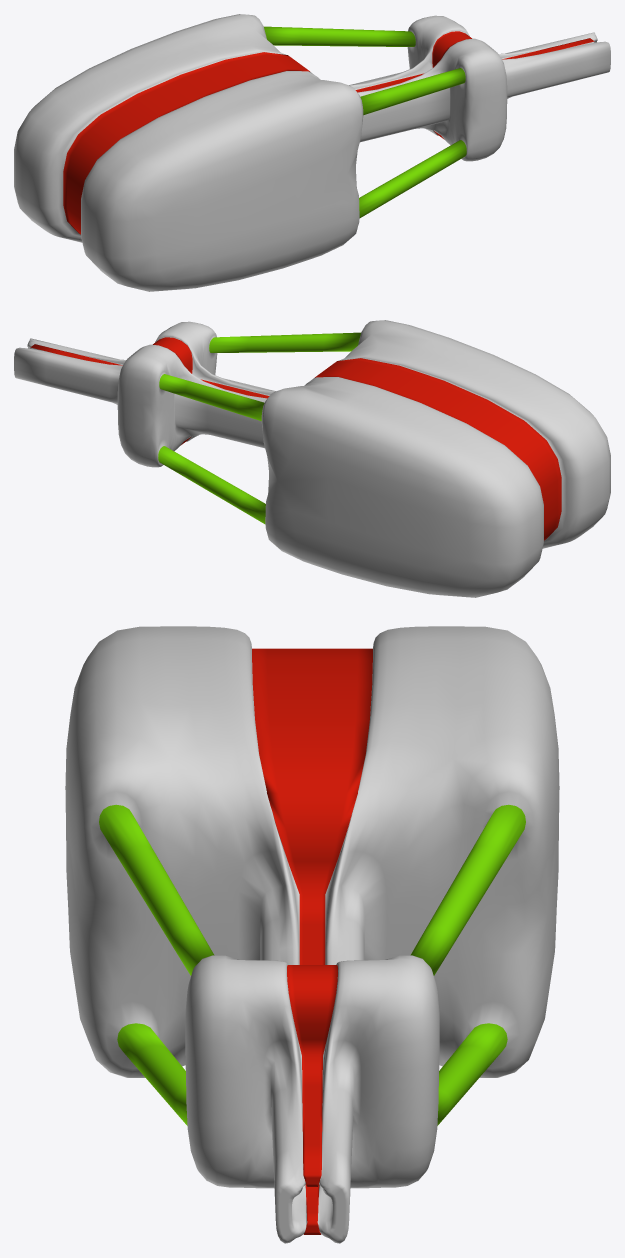
The model's file is RaiderWeapon_01.fbx.
3 views of the same model, one above another, from view 1: azimuth 30°, elevation 25°; view 2: azimuth 150°, elevation 25°; view 3: azimuth 270°, elevation 25° (orthographic). The views are drawn at different scales.
Visible parts, largest first — view 1: Cube; view 2: Cube; view 3: Cube.
Boxes of the visible parts, left/top/right/bottom form: Cube: left=14, top=14, right=610, bottom=291; Cube: left=14, top=320, right=610, bottom=597; Cube: left=65, top=626, right=559, bottom=1243.
Size of the model in its own units: 0.8604 by 0.6539 by 2.18.
